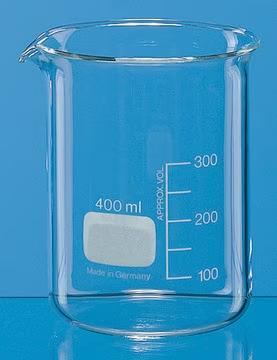Beaker: (10, 13, 261, 339)
